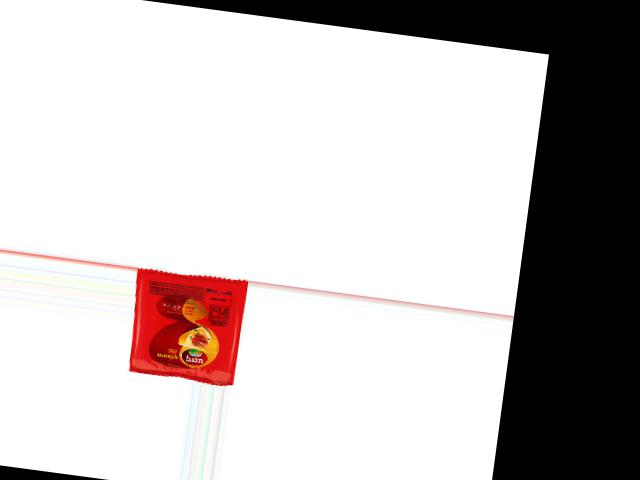cheese: (127, 265, 249, 386)
